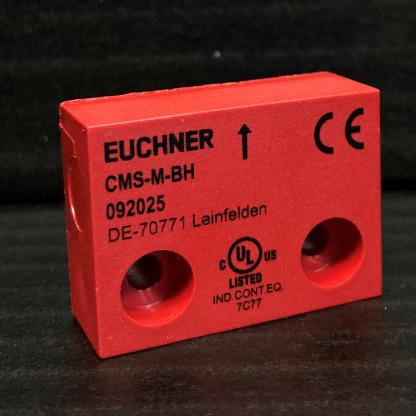SP0000001: (31, 0, 416, 416)
